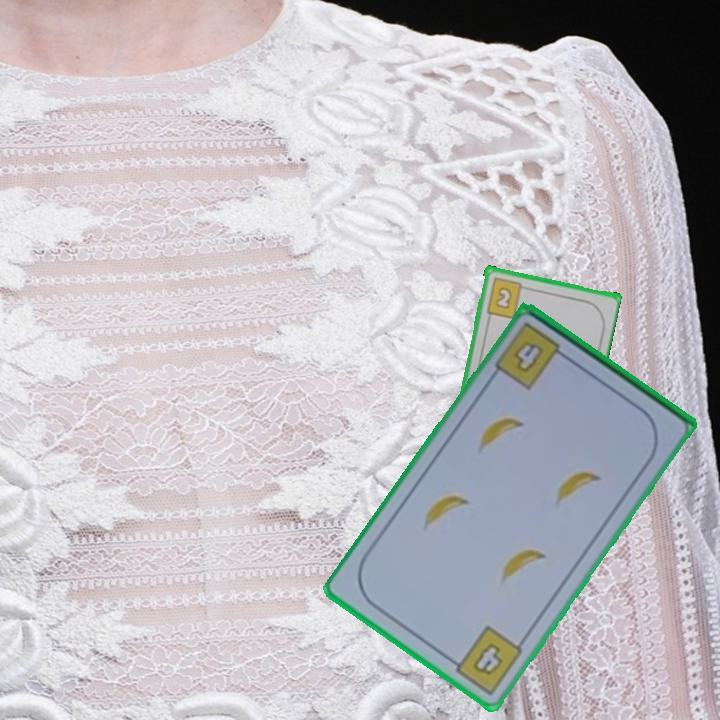2b: (482, 273, 530, 320)
4b: (444, 622, 526, 699), (491, 319, 573, 393)
